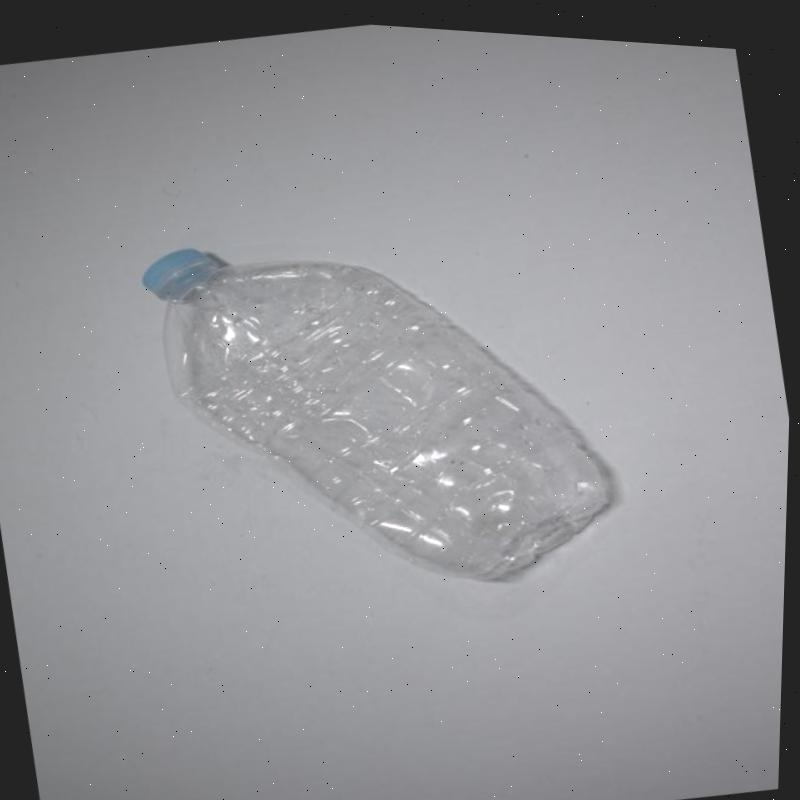botella: (129, 172, 641, 635)
